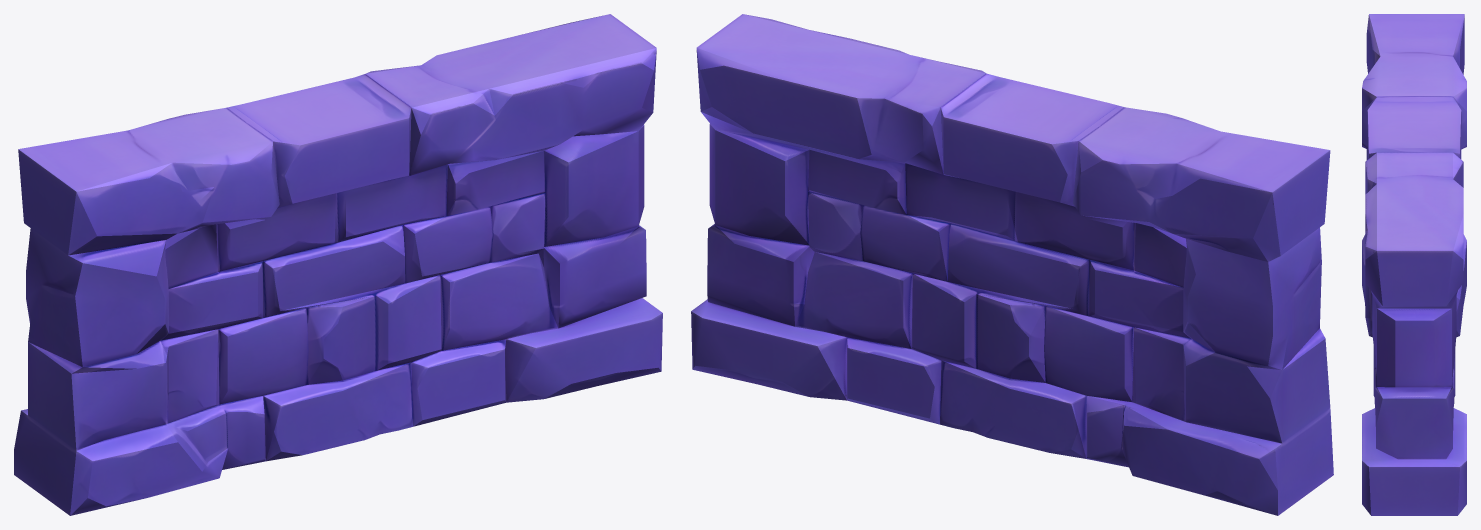
The model's file is purple_stonewall_pbr.glb.
3 renders of one model, left to right at view 1: azimuth 30°, elevation 25°; view 2: azimuth 150°, elevation 25°; view 3: azimuth 270°, elevation 25°, orthographic. The views are drawn at different scales.
Visible parts, largest first — view 1: model; view 2: model; view 3: model.
Boxes of the visible parts, x1,y1,x2,y2 form: model: [14, 14, 662, 515]; model: [691, 14, 1333, 515]; model: [1362, 14, 1466, 515].
Size of the model in its own units: 1.9 by 0.9952 by 0.3552.
Materials: 1 (1 with a texture image).
